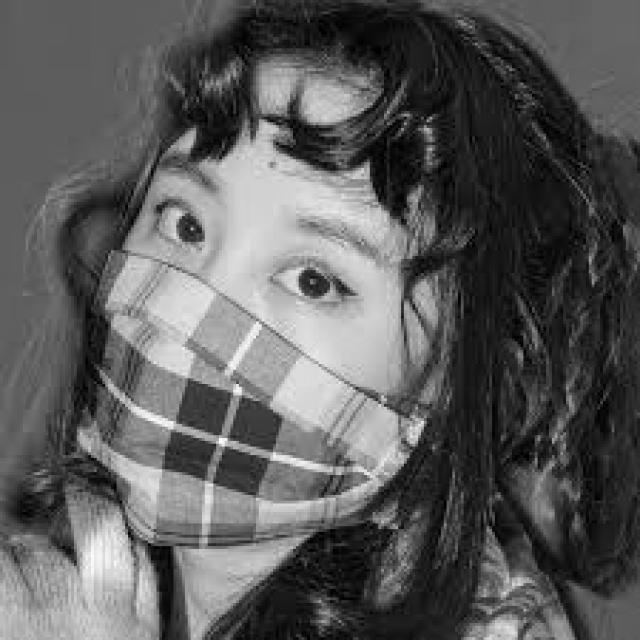without_mask: (65, 245, 441, 546)
